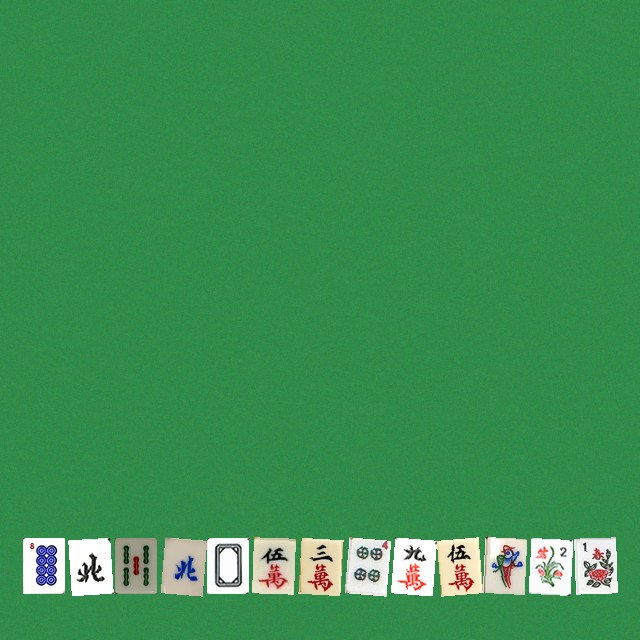tile: (22, 537, 64, 593), (68, 537, 110, 593), (114, 537, 156, 593), (160, 537, 202, 593), (206, 537, 248, 593), (252, 537, 294, 593), (298, 537, 340, 593), (344, 537, 386, 593), (390, 537, 432, 593), (436, 537, 478, 593), (482, 537, 524, 593), (528, 537, 570, 593), (574, 537, 616, 593)
